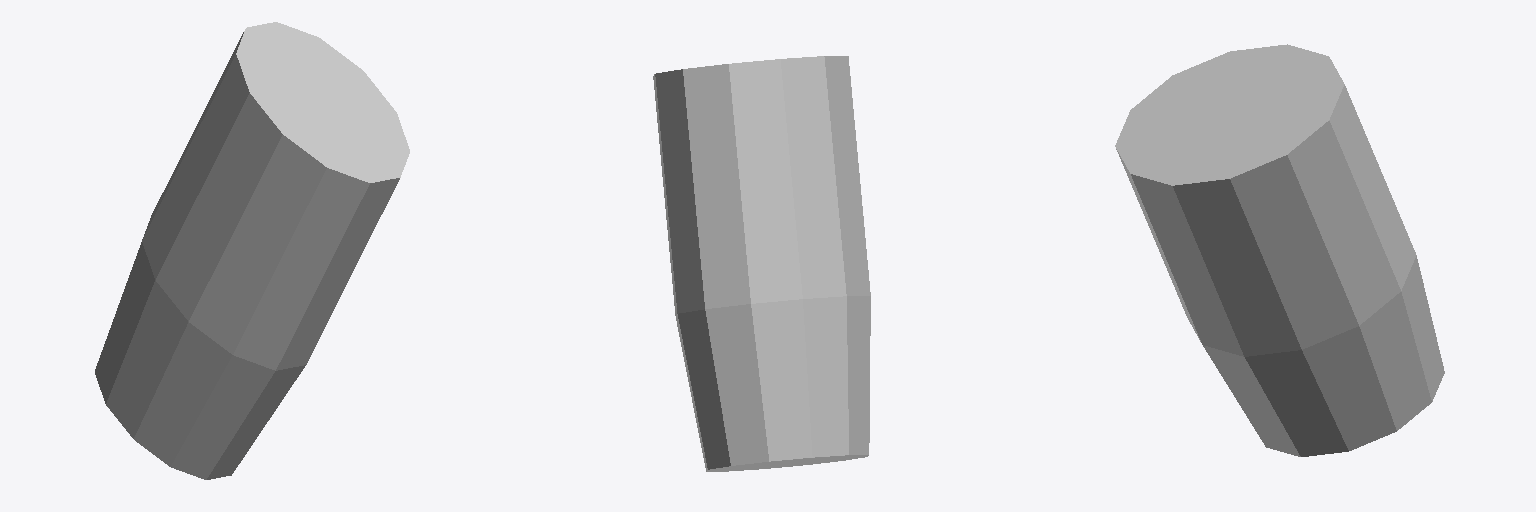
The model's file is UpperArm_R.obj.
3 views of the same model, side by side, from view 1: azimuth 30°, elevation 25°; view 2: azimuth 150°, elevation 25°; view 3: azimuth 270°, elevation 25° (orthographic).
Parts seen in each view (by area): view 1: pCylinder50 UpperArm_R; view 2: pCylinder50 UpperArm_R; view 3: pCylinder50 UpperArm_R.
Part boxes in pixels (left/top/right/bottom): pCylinder50 UpperArm_R: left=95, top=22, right=409, bottom=479; pCylinder50 UpperArm_R: left=653, top=56, right=870, bottom=471; pCylinder50 UpperArm_R: left=1115, top=44, right=1444, bottom=456.
Size of the model in its own units: 1.03 by 1.77 by 1.28.